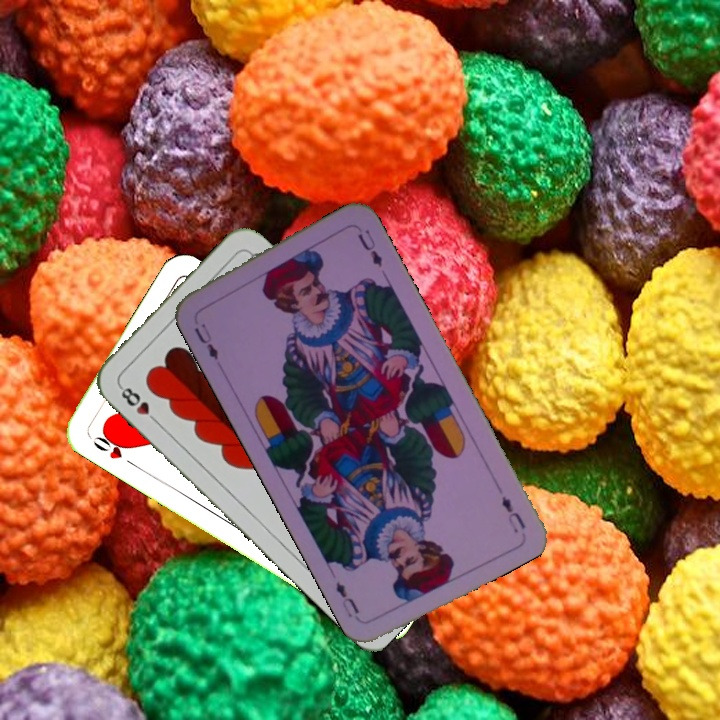EU: (497, 492, 529, 536), (190, 319, 221, 363)
H8: (115, 381, 162, 427)
HO: (89, 427, 139, 470)
